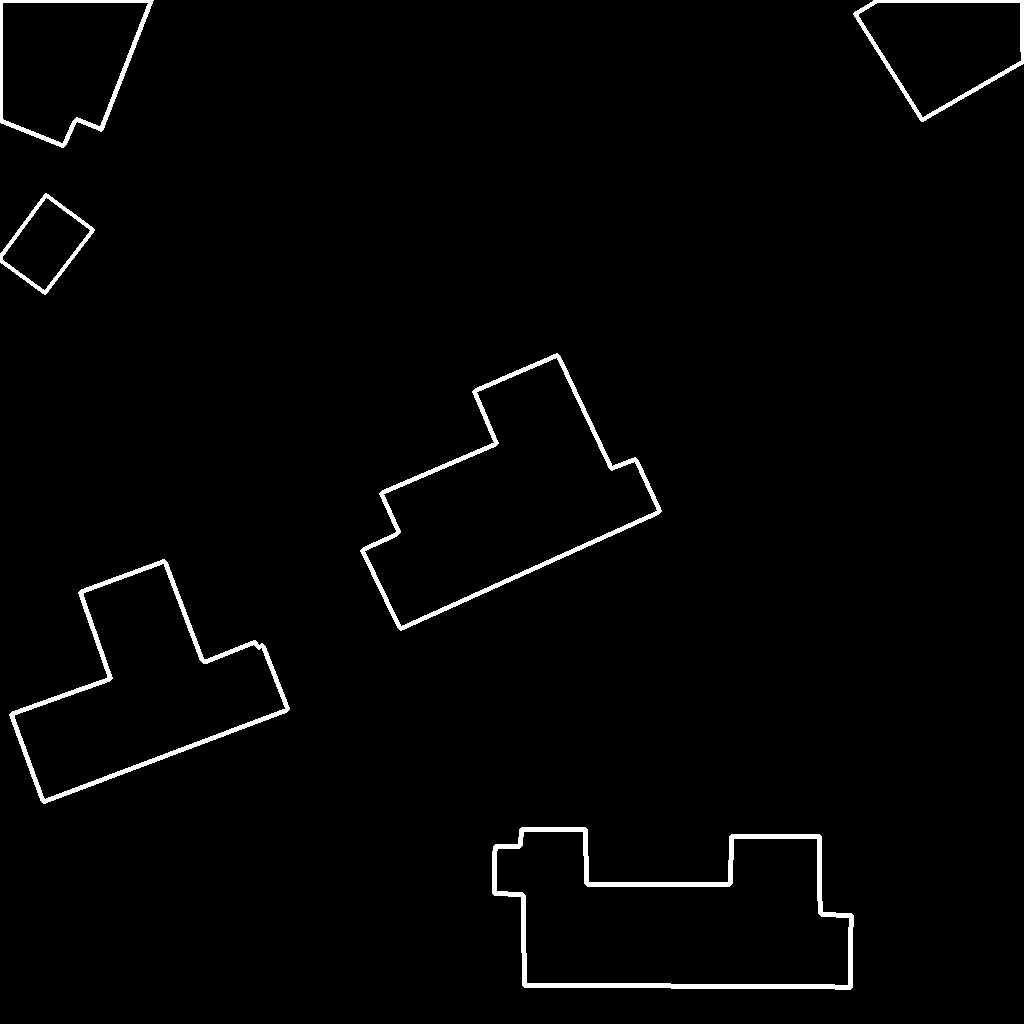building: (362, 355, 661, 630), (11, 561, 289, 803), (494, 829, 852, 988), (0, 0, 153, 147), (855, 0, 1024, 121), (0, 195, 94, 294)
